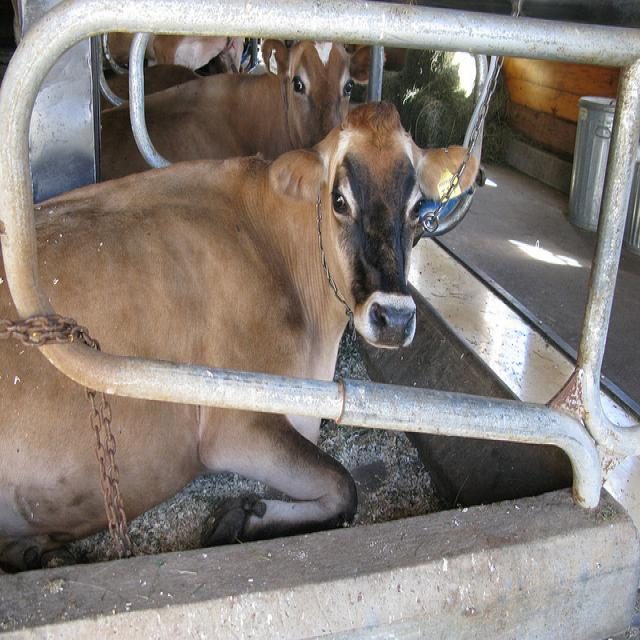cow: (0, 100, 477, 565), (99, 35, 373, 177), (146, 33, 243, 71)
